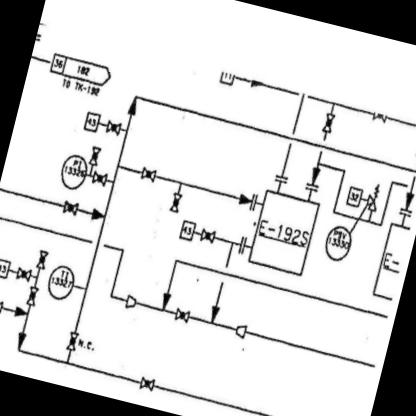LMI: (315, 223, 356, 272), (52, 147, 92, 195), (43, 258, 79, 308)
